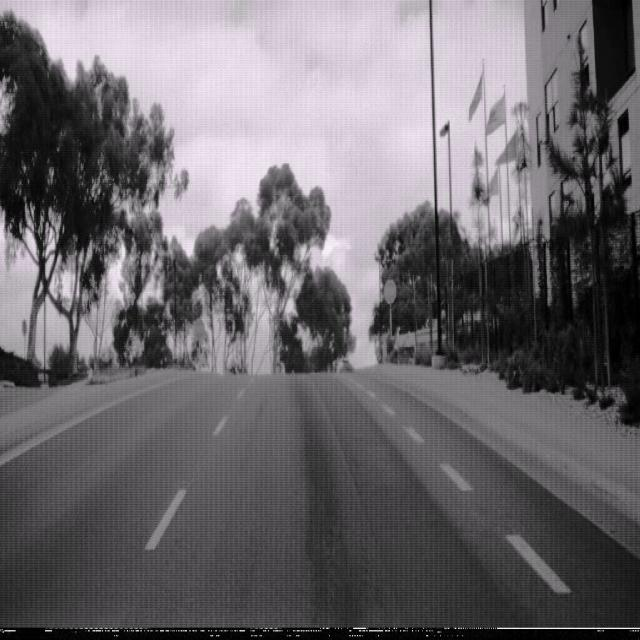stop: (383, 277, 396, 304), (193, 318, 204, 340)
